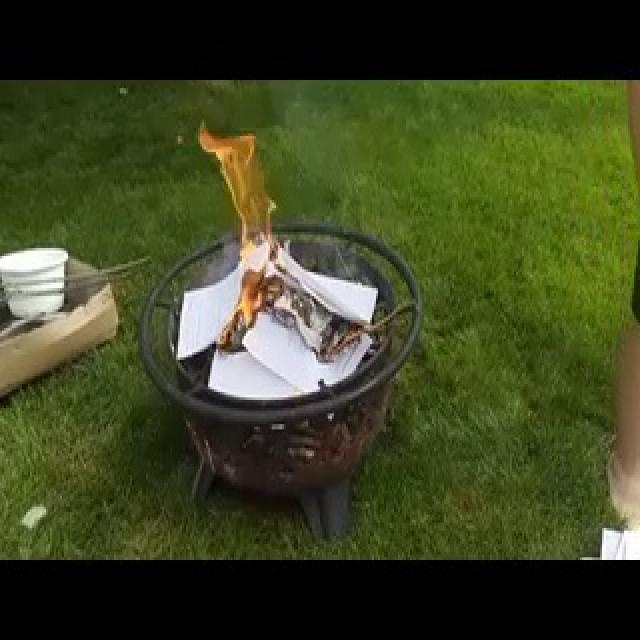fire: (192, 102, 286, 348)
